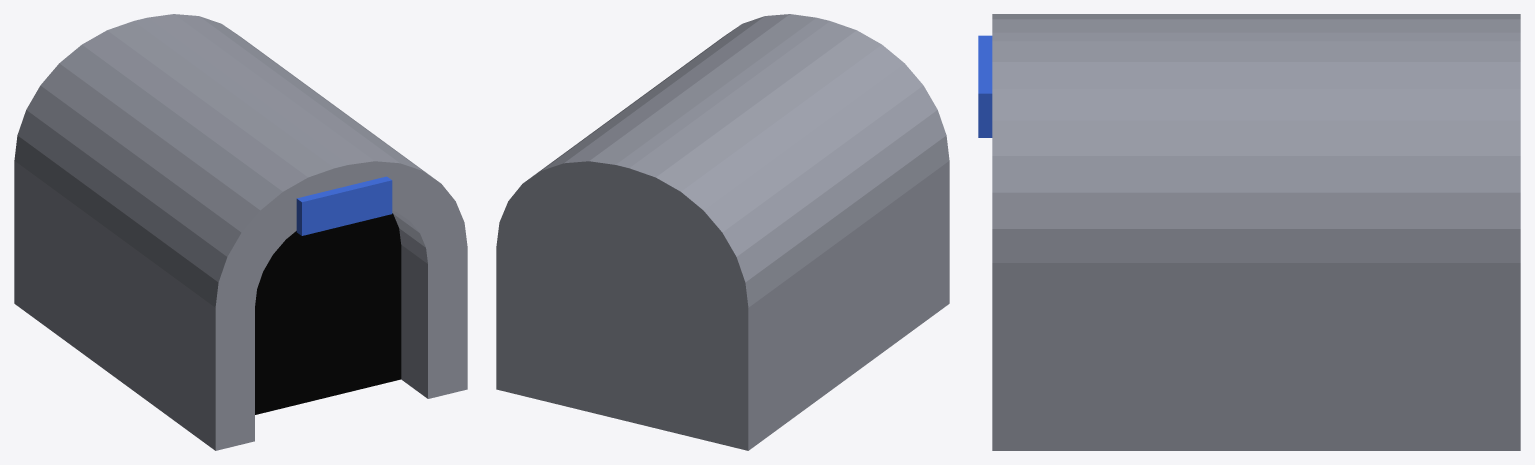
Rendered from Map_fall_tunnel.fbx.
3 renders of one model, left to right at view 1: azimuth 30°, elevation 25°; view 2: azimuth 150°, elevation 25°; view 3: azimuth 270°, elevation 25°, orthographic. The views are drawn at different scales.
Visible parts, largest first — view 1: tunnel; view 2: tunnel; view 3: tunnel.
Boxes of the visible parts, x1,y1,x2,y2 form: tunnel: (14, 14, 467, 450); tunnel: (496, 14, 949, 450); tunnel: (978, 14, 1520, 450).
Bounding box in the file's own units: 50.65 × 48.72 × 71.86.
